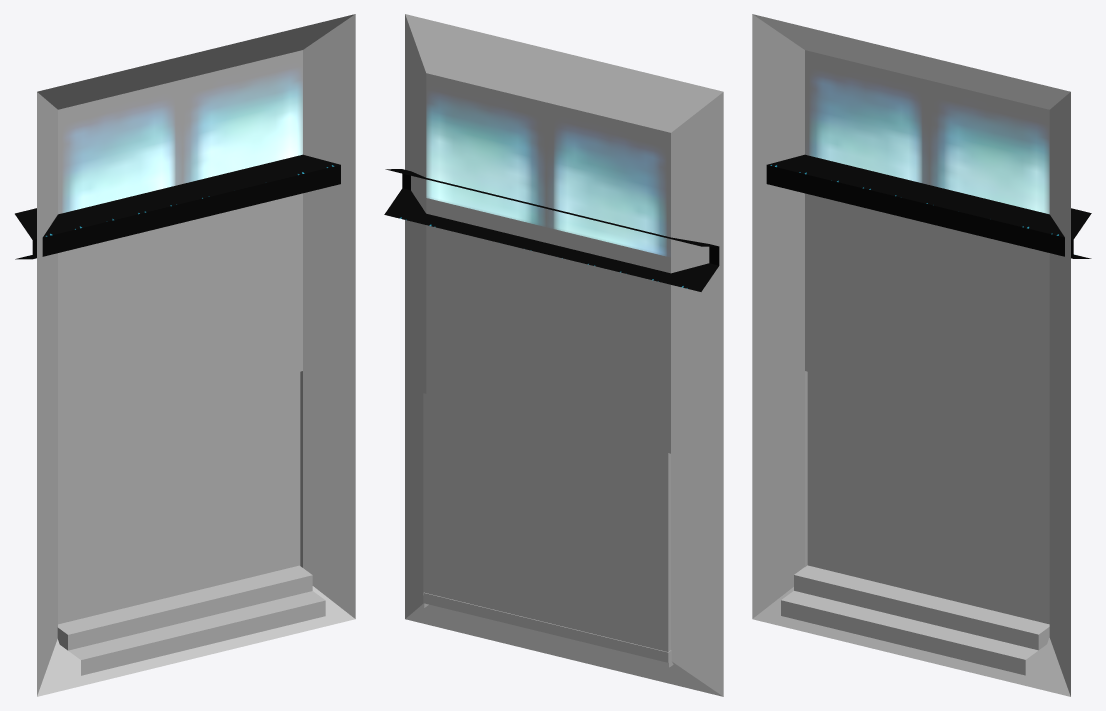
Rendered from Wall_Module_03_Art.fbx.
The picture shows the model from 3 angles, left to right: view 1: azimuth 30°, elevation 25°; view 2: azimuth 150°, elevation 25°; view 3: azimuth 330°, elevation 25°; orthographic projection.
Visible parts, largest first — view 1: Wall_Module_03; view 2: Wall_Module_03; view 3: Wall_Module_03.
Part boxes in pixels (left/top/right/bottom): Wall_Module_03: left=15, top=14, right=355, bottom=696; Wall_Module_03: left=384, top=14, right=723, bottom=696; Wall_Module_03: left=752, top=14, right=1091, bottom=696.
Size of the model in its own units: 2.27 by 4.13 by 0.3728.
